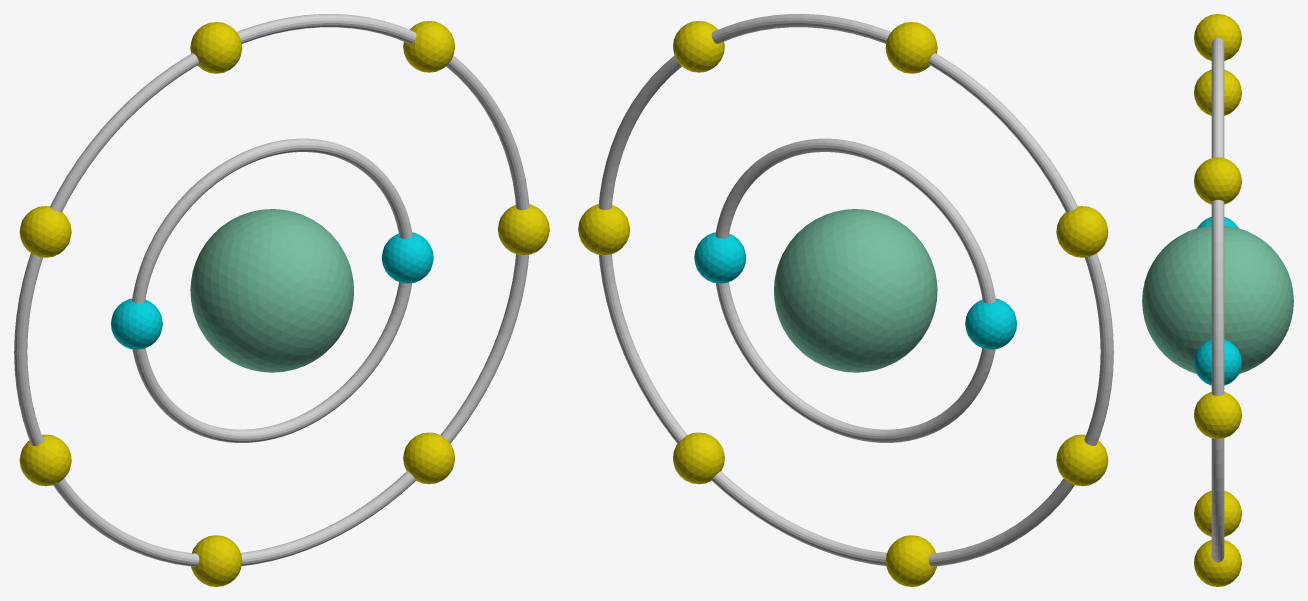
The picture shows the model from 3 angles, left to right: view 1: azimuth 30°, elevation 25°; view 2: azimuth 150°, elevation 25°; view 3: azimuth 270°, elevation 25°; orthographic projection. The views are drawn at different scales.
Parts seen in each view (by area): view 1: Nucleo_F, Camada_2, Camada_1, e2_4, e2_7, e2_3, e1_2, e1_1, e2_1, e2_6, e2_5, e2_2; view 2: Nucleo_F, Camada_2, Camada_1, e2_4, e2_7, e2_3, e1_2, e1_1, e2_1, e2_6, e2_5, e2_2; view 3: Nucleo_F, Camada_2, e2_1, e2_2, e2_7, e2_3, e1_1, e2_4, e2_6.
Part boxes in pixels (x1,y1,x2,y2): Nucleo_F: [190, 209, 353, 372]; Camada_2: [14, 14, 529, 566]; Camada_1: [132, 138, 412, 442]; e2_4: [19, 206, 71, 257]; e2_7: [403, 432, 454, 484]; e2_3: [190, 22, 242, 73]; e1_2: [111, 298, 162, 349]; e1_1: [381, 232, 433, 283]; e2_1: [497, 204, 549, 255]; e2_6: [191, 535, 242, 586]; e2_5: [19, 434, 71, 486]; e2_2: [403, 21, 454, 72]; Nucleo_F: [774, 209, 937, 372]; Camada_2: [598, 14, 1113, 566]; Camada_1: [715, 138, 995, 442]; e2_4: [1056, 206, 1108, 257]; e2_7: [673, 432, 724, 484]; e2_3: [885, 22, 937, 73]; e1_2: [965, 298, 1016, 349]; e1_1: [694, 232, 746, 283]; e2_1: [578, 204, 630, 255]; e2_6: [885, 535, 936, 586]; e2_5: [1056, 434, 1108, 486]; e2_2: [673, 21, 724, 72]; Nucleo_F: [1142, 226, 1293, 373]; Camada_2: [1211, 38, 1224, 562]; e2_1: [1194, 392, 1241, 438]; e2_2: [1194, 157, 1241, 204]; e2_7: [1194, 540, 1241, 586]; e2_3: [1194, 14, 1241, 60]; e1_1: [1194, 339, 1241, 385]; e2_4: [1194, 69, 1241, 115]; e2_6: [1194, 490, 1241, 536].
Size of the model in its own units: 1.65 by 1.66 by 0.44.
